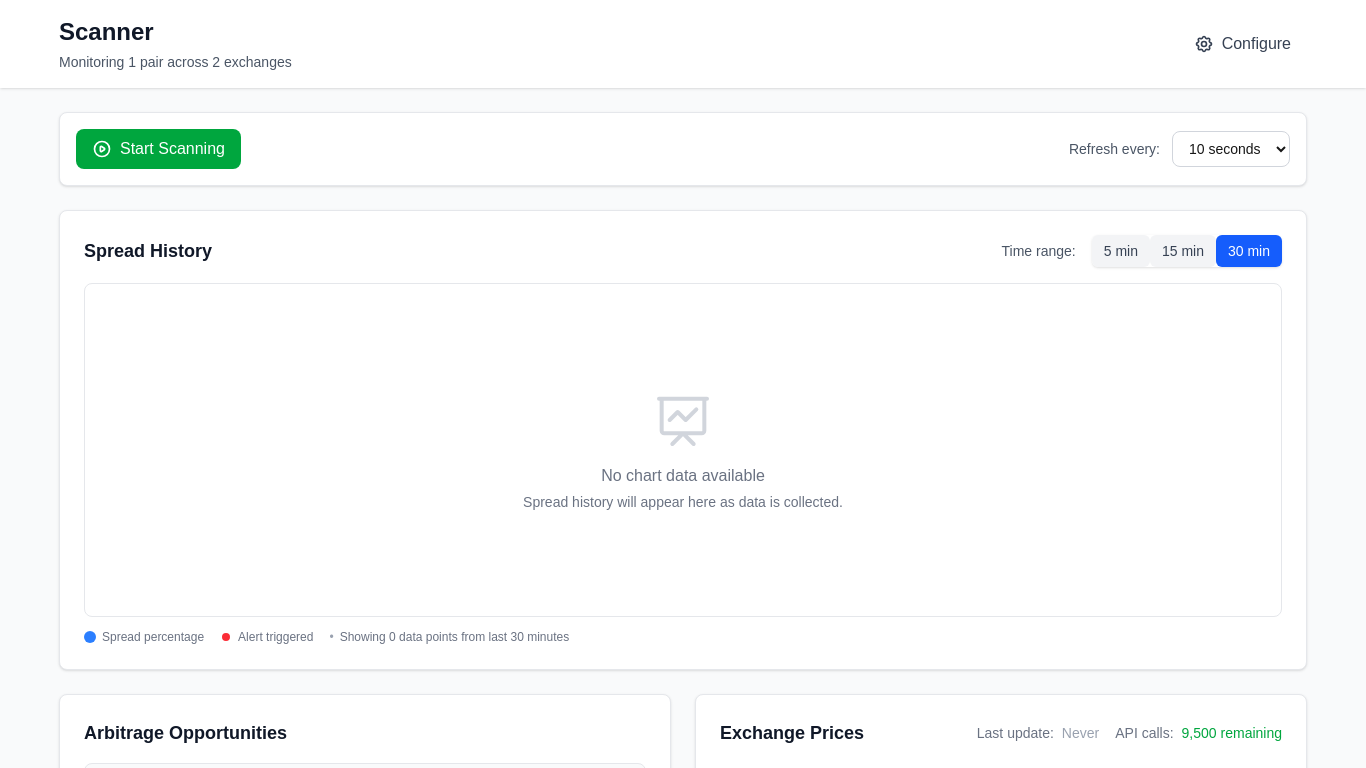
Test: ScannerPage Integration › Full Scanner Workflow › should start scanning and display data when start button clicked
The image size is (1366, 768).
// Click start scanning
Click the button "Start Scanning": click(158, 149) [76,129,241,169]
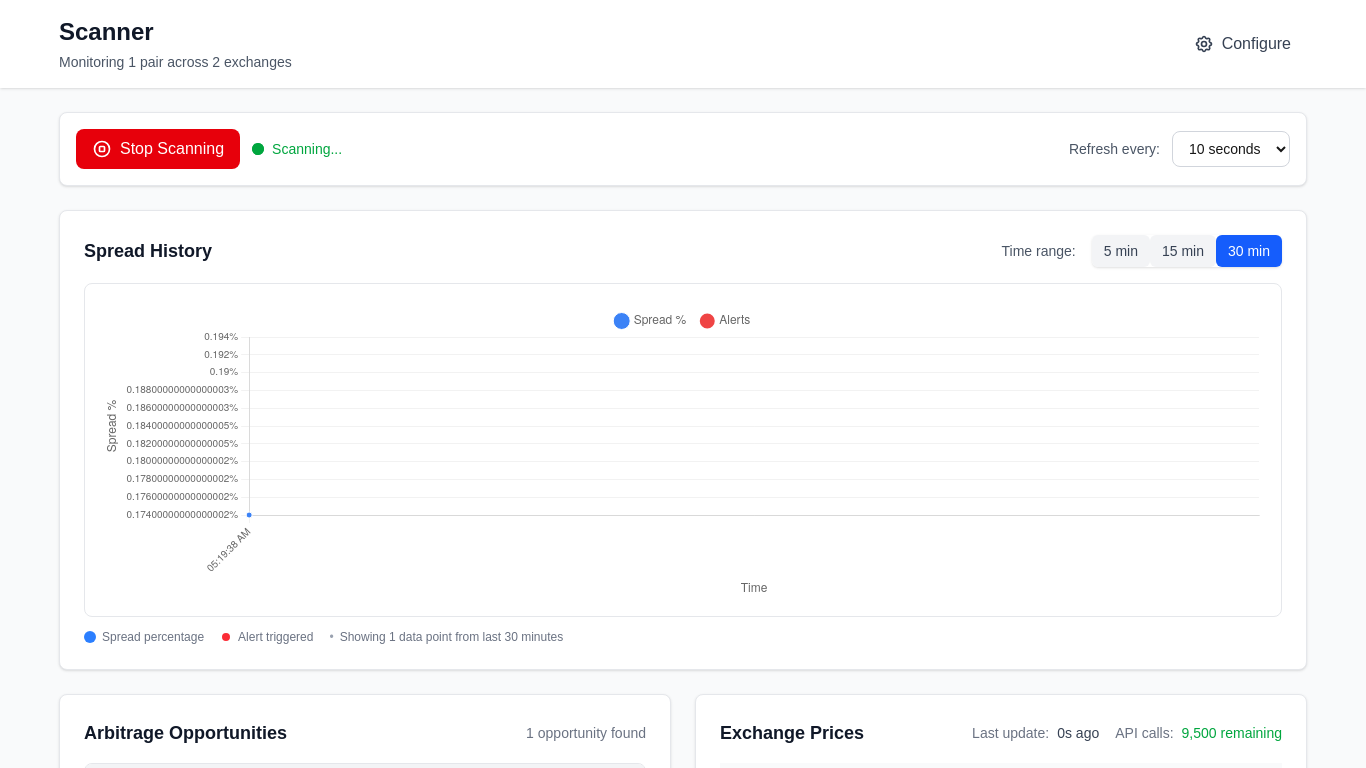
Expected: the text "Scanning..." is shown, [272,139,342,159]
Expected: the button "Stop Scanning" is shown, [76,129,240,169]
